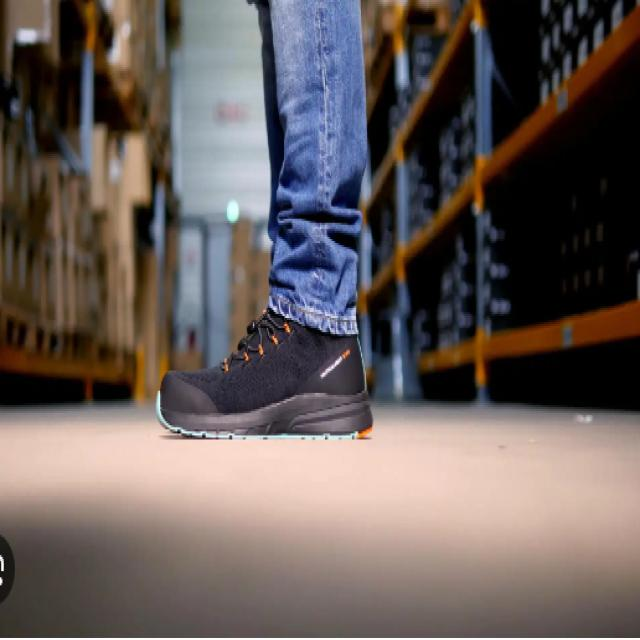shoes: (153, 290, 378, 446)
